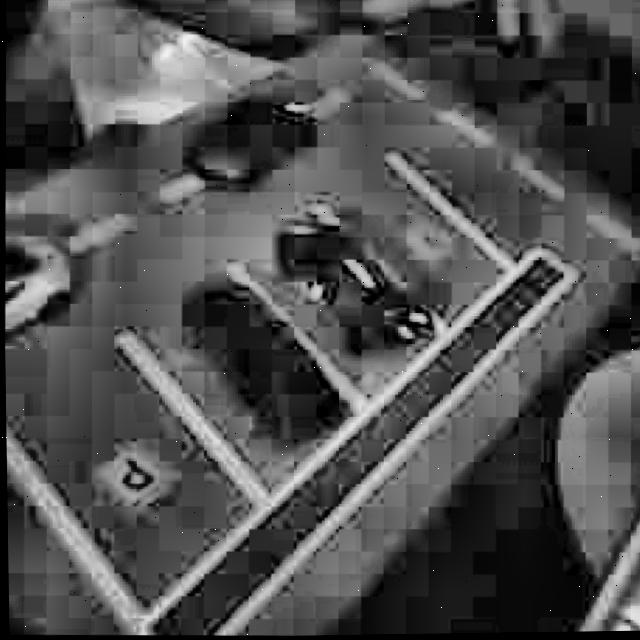car: (164, 268, 346, 466), (262, 199, 427, 361), (176, 82, 325, 199), (3, 217, 86, 348)
